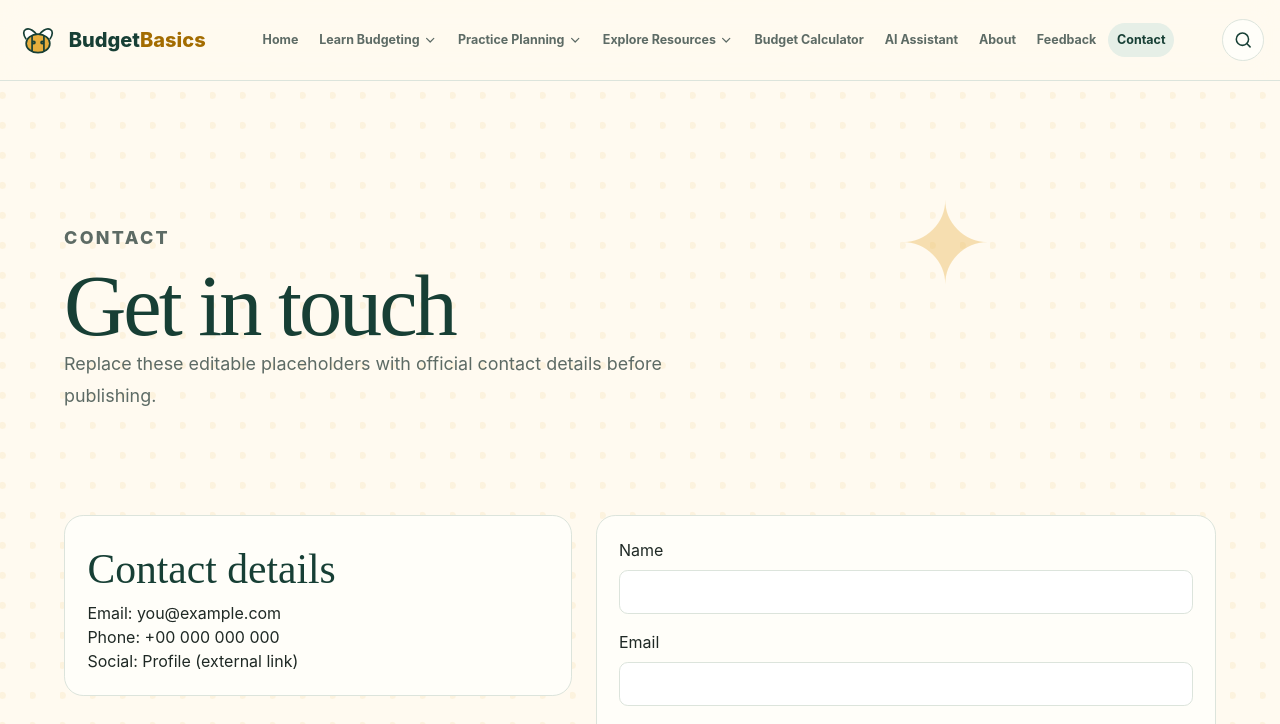
Test: discovery and support pages › clears stale success when /contact is edited and resubmitted invalid
Step 1. Type "Student" into the field labelled "Name" → point(906, 592), box [619,570,1193,614]
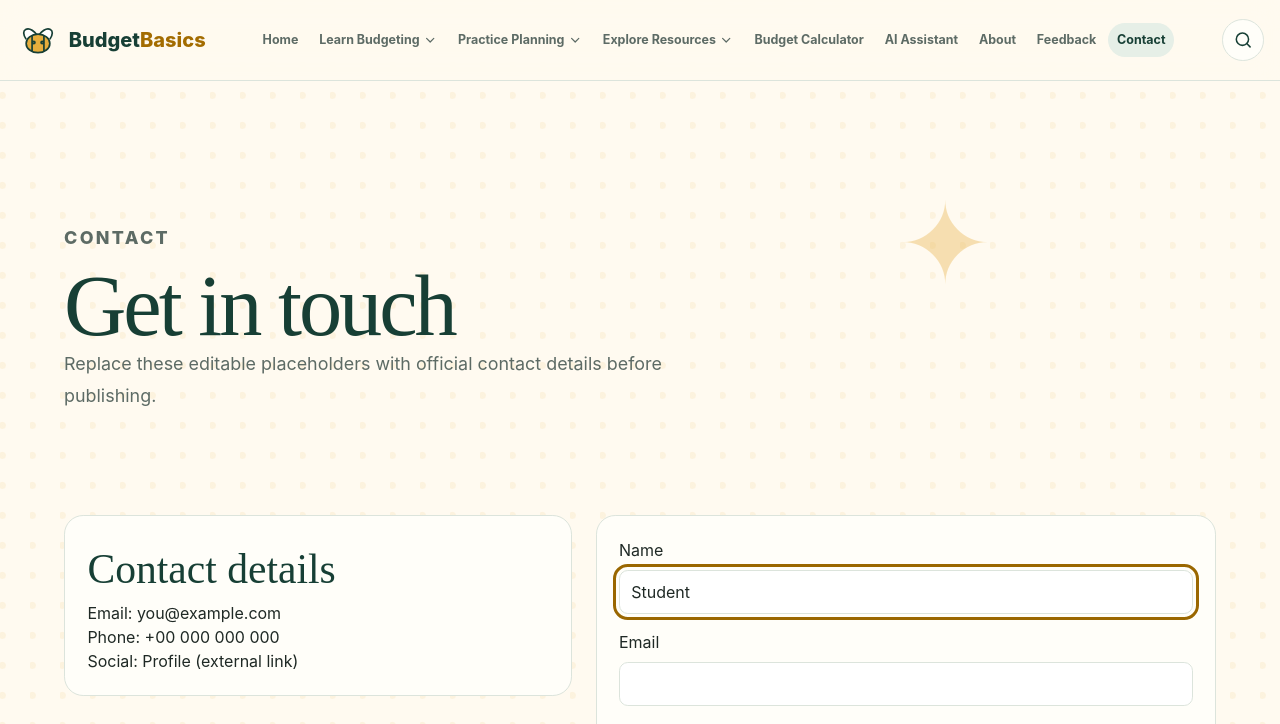
Step 2. Type "student@example.com" into the field labelled "Email" → point(906, 684), box [619,662,1193,706]
(page scrolled)
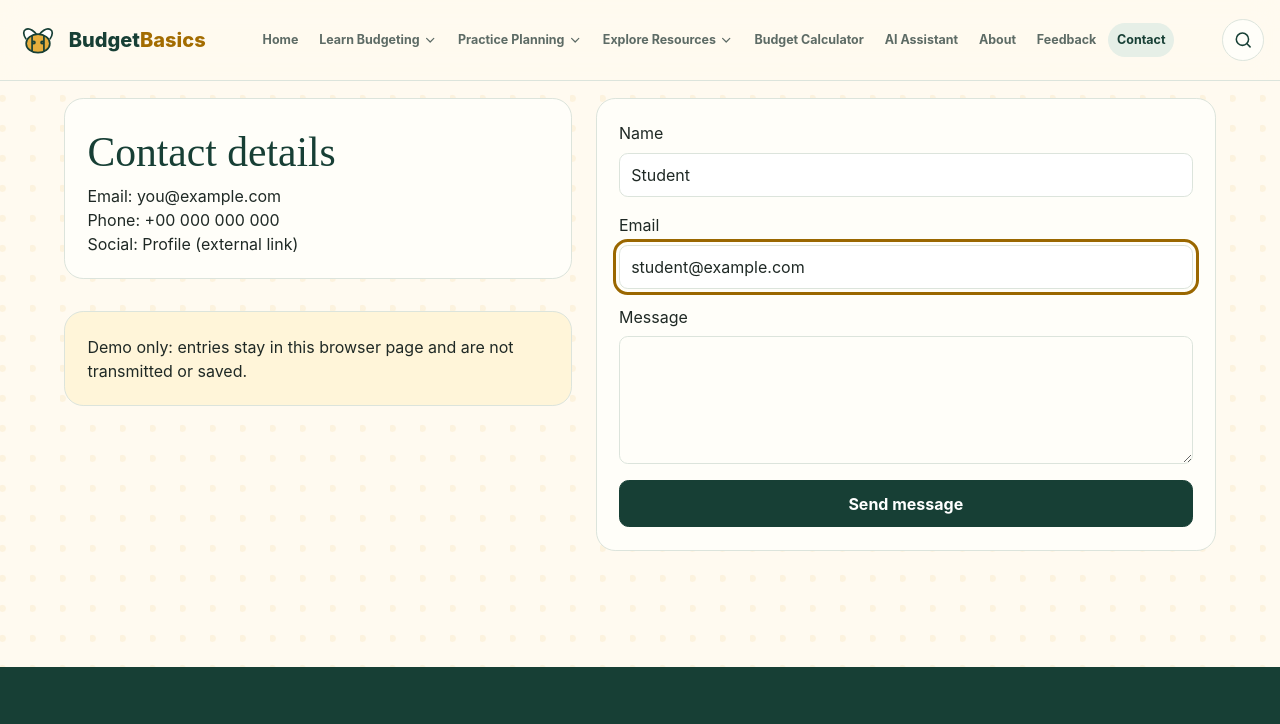
Step 3. Type "Helpful message" into the text box labelled "Message" → point(906, 400), box [619,336,1193,464]
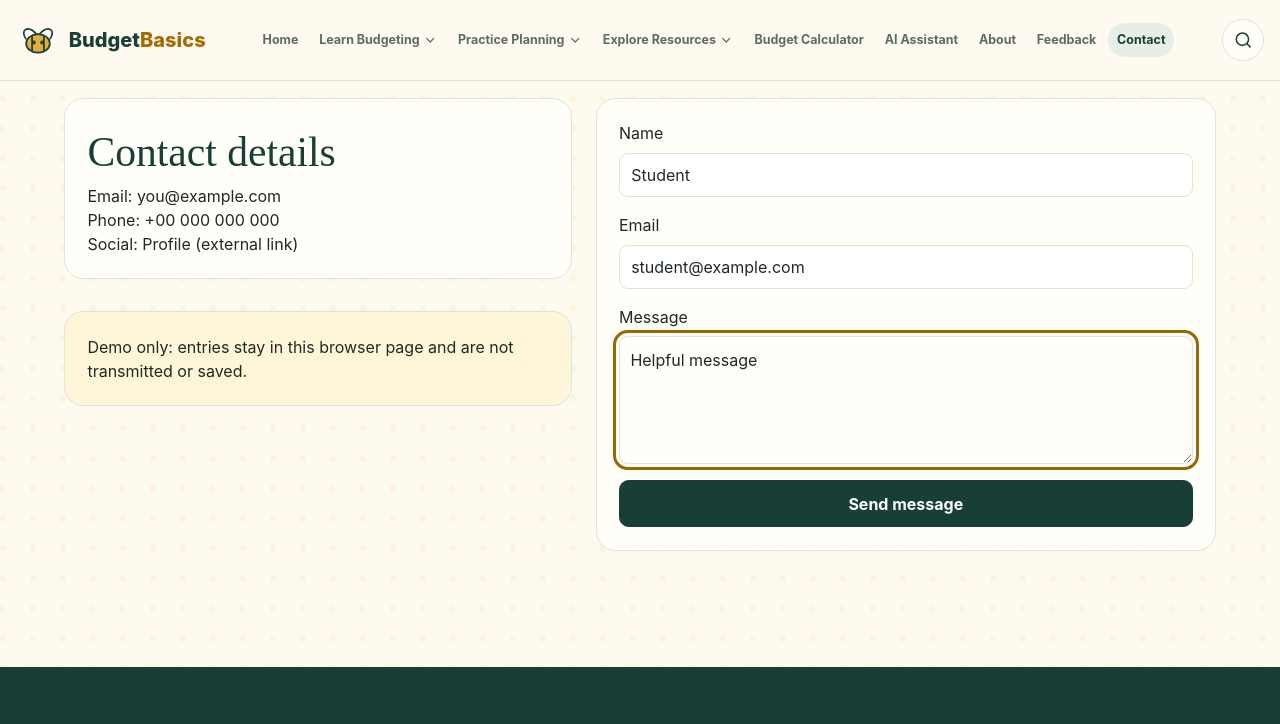
Step 4. Click the button "Send message" → point(906, 504), box [619,480,1193,527]
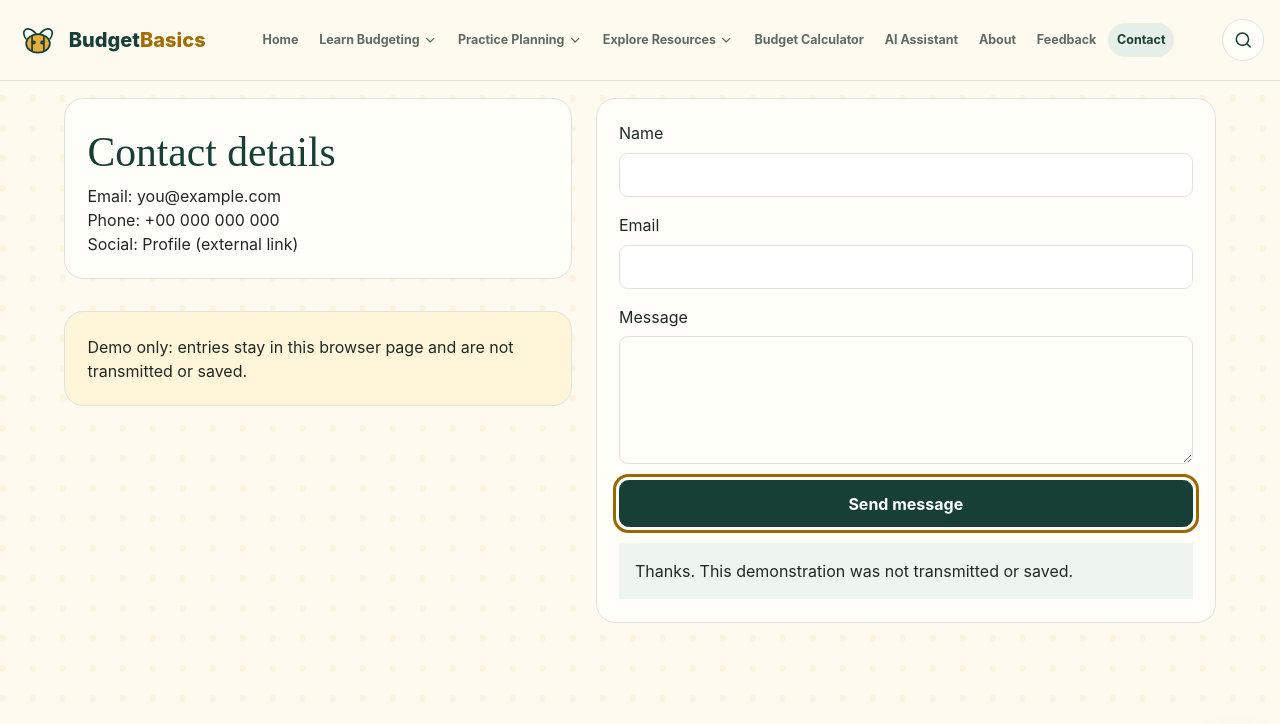
Check: the text "Thanks. This demonstration was not transmitted or saved." is shown, box [619,543,1193,599]
Step 5. Type "Changed" into the field labelled "Name" → point(906, 175), box [619,152,1193,197]
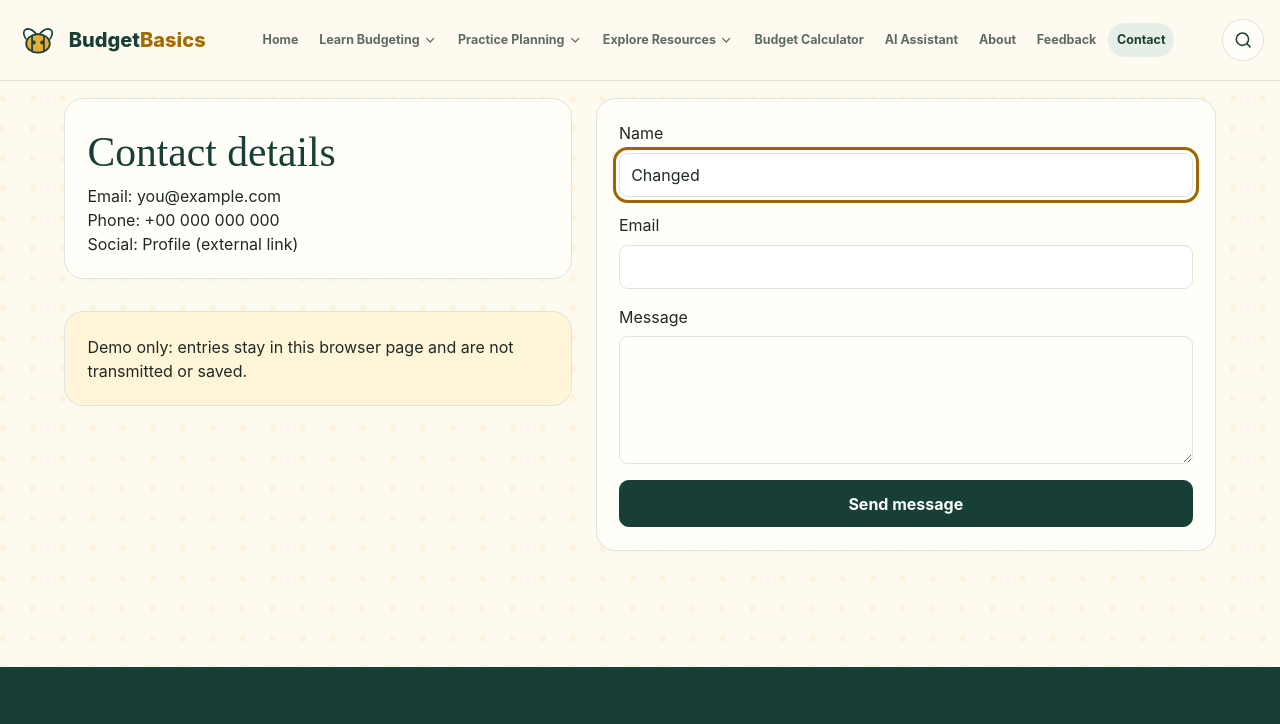
Check: the text "Thanks. This demonstration was not transmitted or saved." is gone
Step 6. Click the button "Send message" → point(906, 504), box [619,480,1193,527]
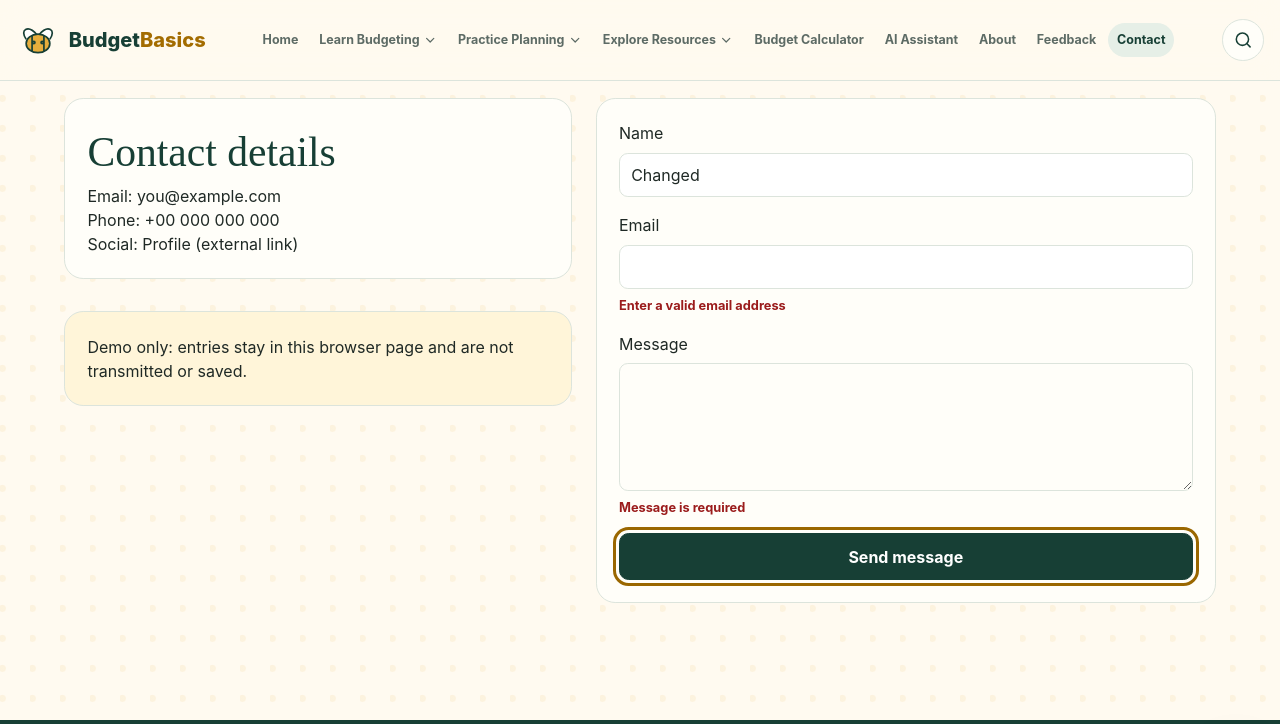
Check: the text "Thanks. This demonstration was not transmitted or saved." is not shown
Check: the message "Enter a valid email address" is shown, box [619,298,786,314]
